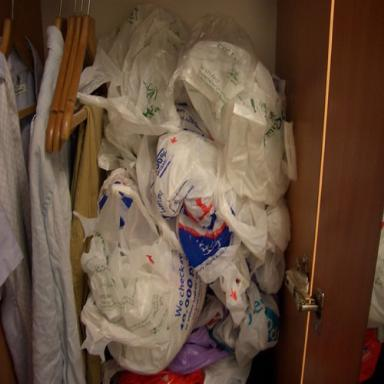plasticbag: (70, 1, 300, 383)
